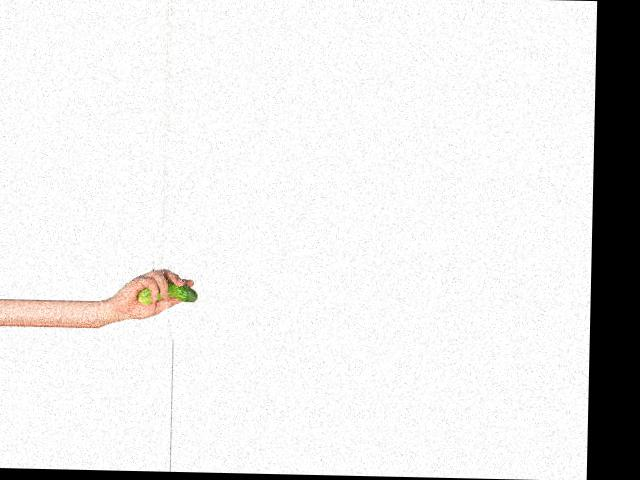cucumber: (137, 281, 197, 304)
